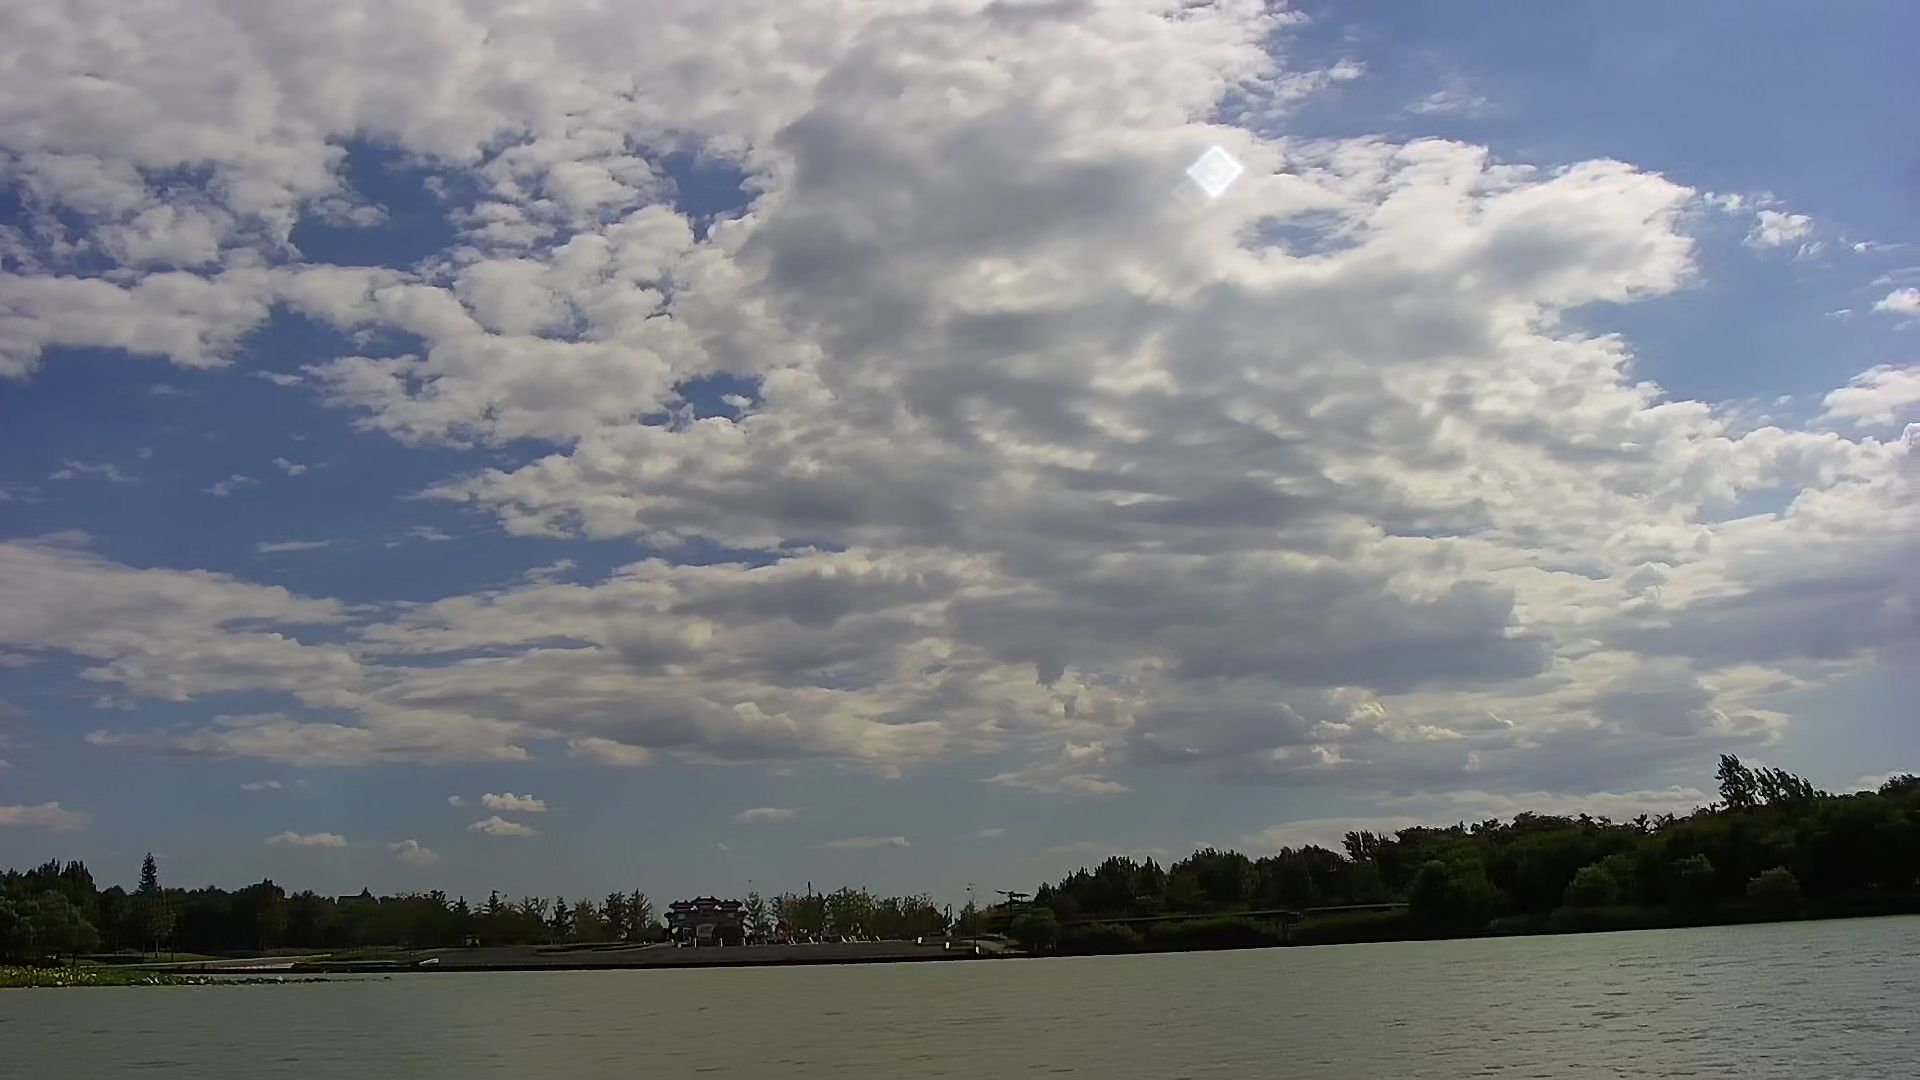harbor: (406, 932, 1054, 978)
